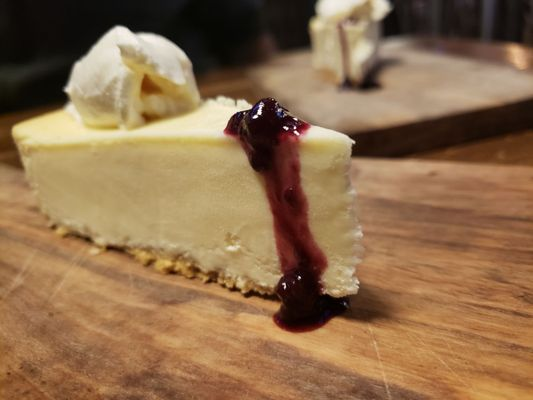sushi: (12, 25, 489, 308), (64, 25, 203, 131)
